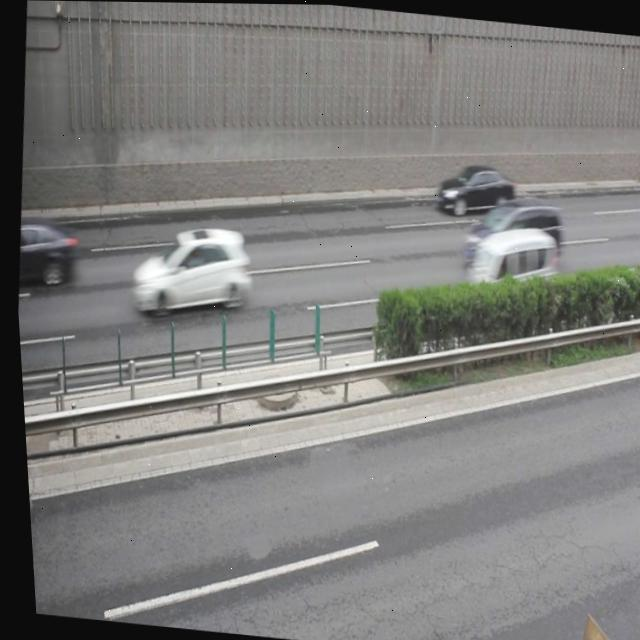car: (123, 215, 252, 320), (456, 189, 562, 274), (12, 215, 78, 294), (430, 158, 515, 219)
truck: (455, 220, 558, 313)
